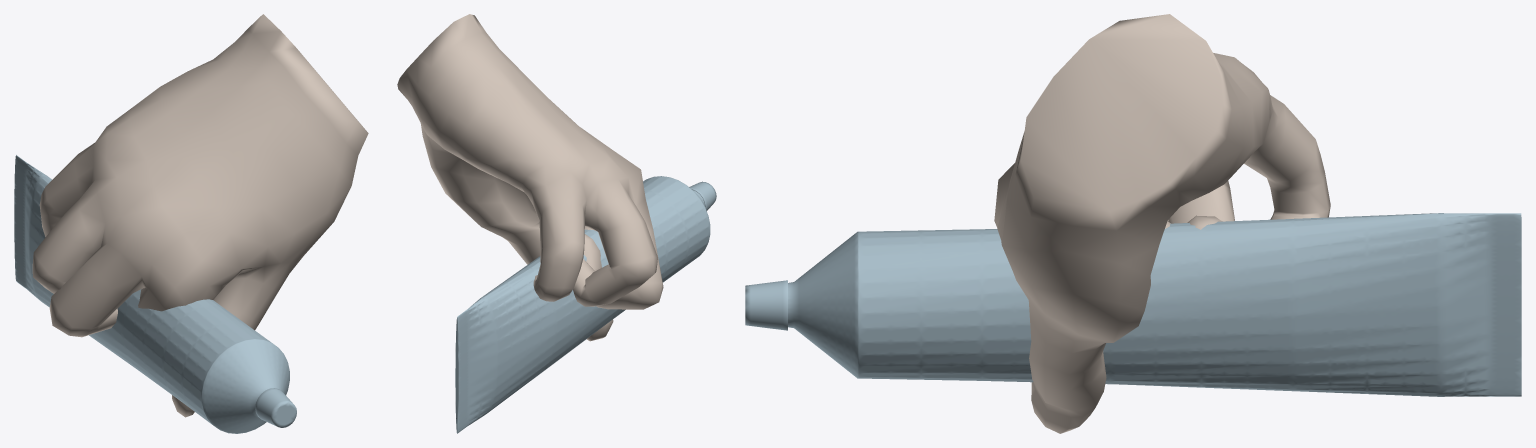
File: pred_28.glb
3 renders of one model, left to right at view 1: azimuth 30°, elevation 25°; view 2: azimuth 150°, elevation 25°; view 3: azimuth 270°, elevation 25°, orthographic. The views are drawn at different scales.
Size of the model in its own units: 0.1271 by 0.1425 by 0.202.
